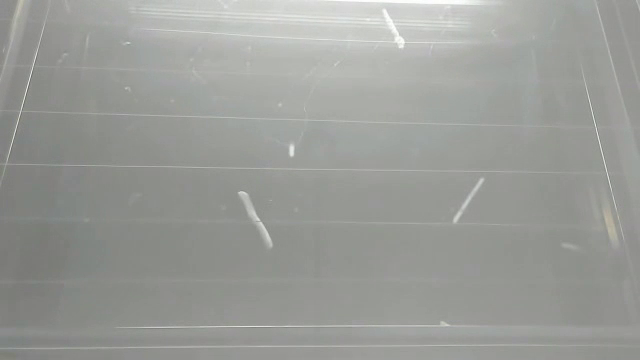alpha: (234, 186, 278, 249), (450, 175, 489, 230), (378, 7, 411, 51), (287, 139, 298, 159)
